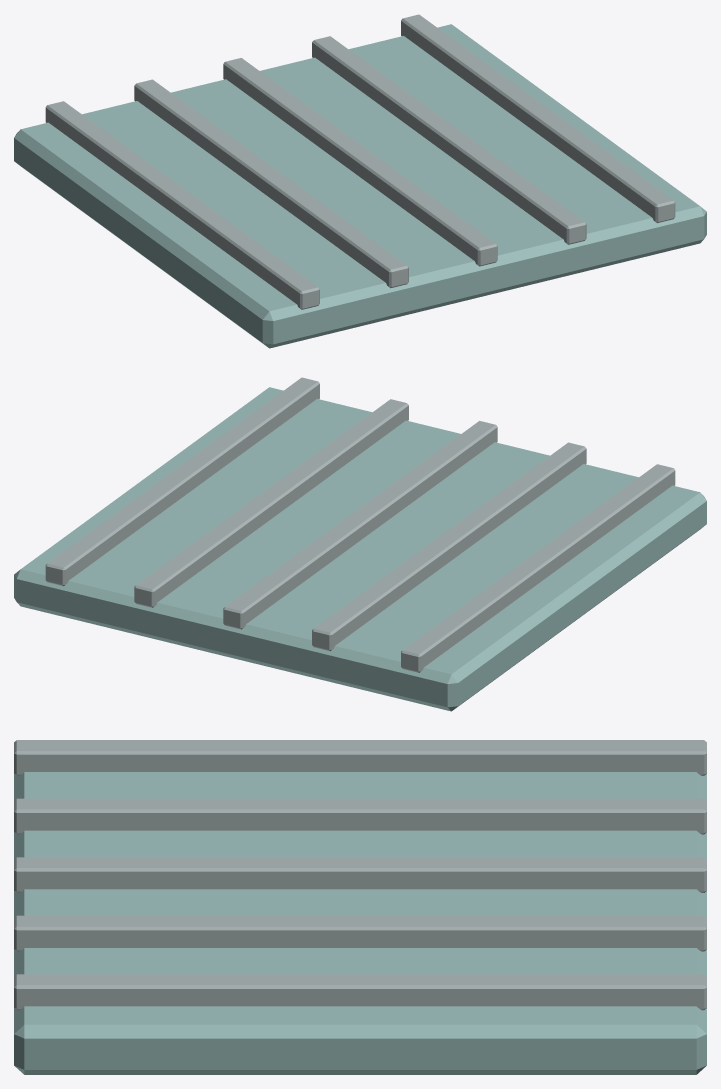
The model's file is roof_1m.glb.
3 views of the same model, one above another, from view 1: azimuth 30°, elevation 25°; view 2: azimuth 150°, elevation 25°; view 3: azimuth 270°, elevation 25° (orthographic). The views are drawn at different scales.
Parts seen in each view (by area): view 1: roof_1m; view 2: roof_1m; view 3: roof_1m.
Boxes of the visible parts, left/top/right/bottom form: roof_1m: left=14, top=14, right=706, bottom=348; roof_1m: left=14, top=377, right=706, bottom=711; roof_1m: left=14, top=740, right=706, bottom=1074.
Size of the model in its own units: 1 by 0.112 by 1.
